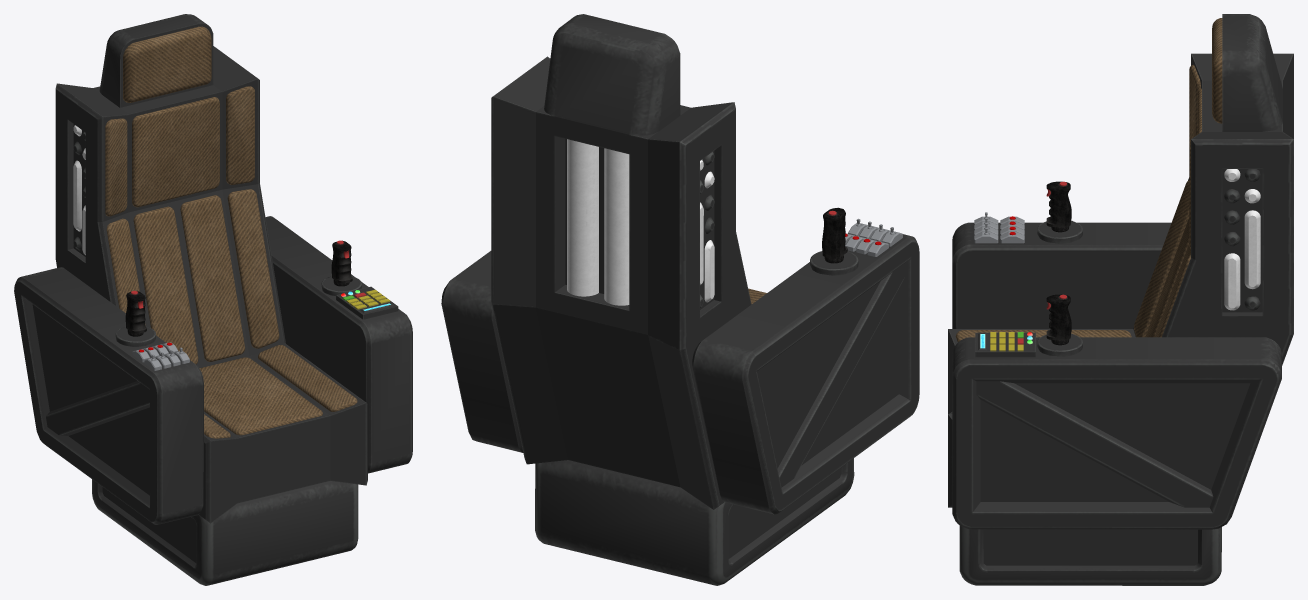
The model's file is seat-sci-fi-pilot.glb.
3 renders of one model, left to right at view 1: azimuth 30°, elevation 25°; view 2: azimuth 150°, elevation 25°; view 3: azimuth 270°, elevation 25°, orthographic. The views are drawn at different scales.
Visible parts, largest first — view 1: Object_14, Object_9, Object_11, Object_8, Object_3; view 2: Object_14, Object_3, Object_8, Object_11; view 3: Object_14, Object_9, Object_3, Object_11, Object_8, Object_12.
Boxes of the visible parts, x1,y1,x2,y2 form: Object_14: [14, 14, 412, 585]; Object_9: [105, 26, 357, 438]; Object_11: [125, 240, 352, 333]; Object_8: [132, 342, 189, 370]; Object_3: [73, 125, 85, 254]; Object_14: [441, 14, 919, 585]; Object_3: [567, 139, 714, 305]; Object_8: [845, 218, 902, 256]; Object_11: [822, 207, 847, 258]; Object_14: [948, 14, 1293, 585]; Object_9: [955, 18, 1222, 341]; Object_3: [1224, 169, 1260, 310]; Object_11: [1046, 181, 1071, 339]; Object_8: [974, 212, 1024, 243]; Object_12: [990, 332, 1023, 351].
Bounding box in the file's own units: 82 × 140 × 85.36.
Materials: 12 (11 with a texture image).
